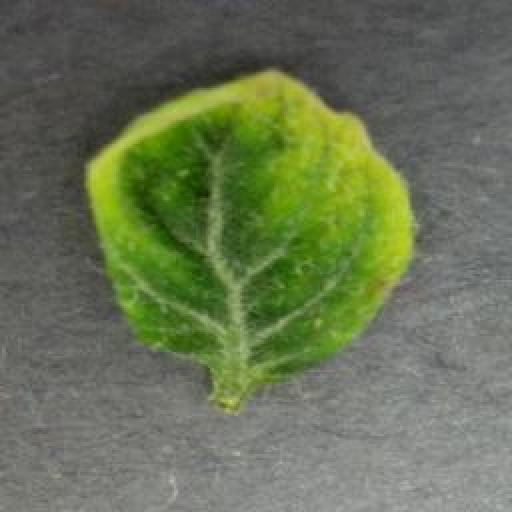Yellow Leaf Curl Virus: (81, 65, 419, 384)
